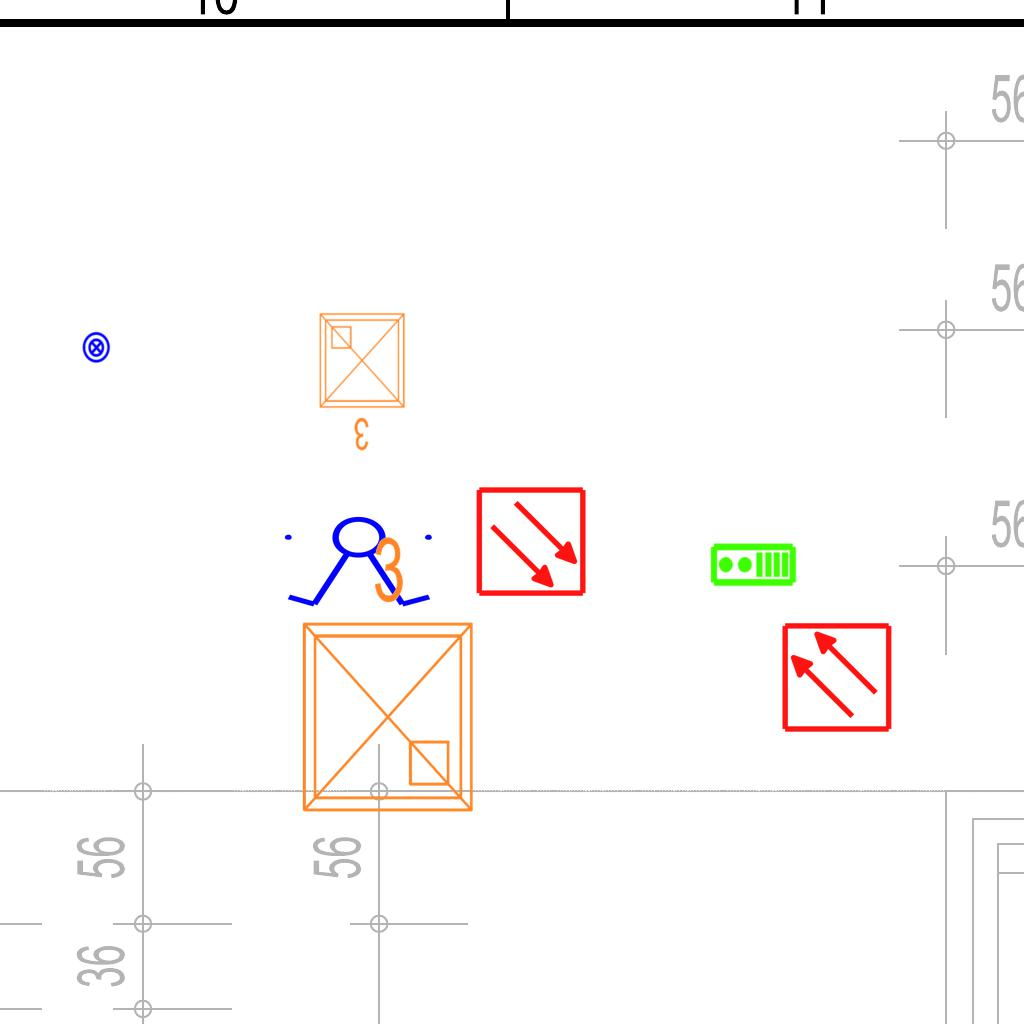Einbaudownlights_LED_Konferenzraeume: (280, 526, 488, 826), (312, 306, 416, 456)
Gegensprechanlage_mit_Video: (709, 542, 797, 589)
RMO_Rauchmelder_optischer: (780, 621, 893, 734), (475, 485, 588, 598)
Serienschalter: (276, 515, 444, 611)
Taster_beleuchtet: (80, 331, 113, 364)
